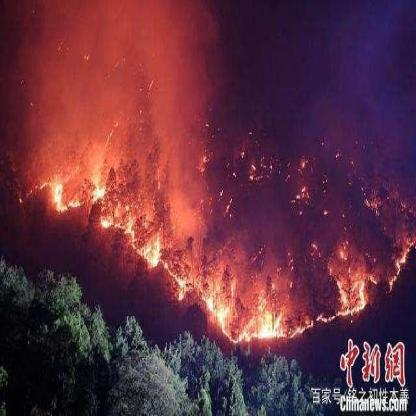fire: (30, 172, 166, 272), (171, 269, 235, 344), (240, 299, 364, 337)
